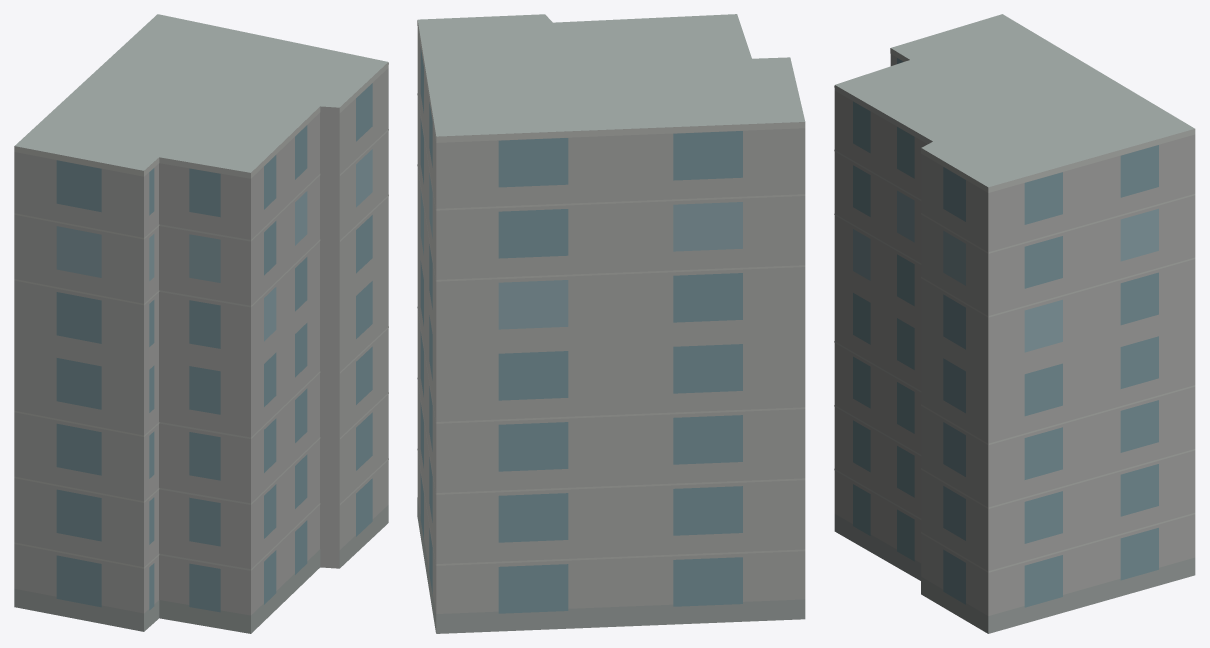
Rendered from survey-upis-32805594.glb.
The picture shows the model from 3 angles, left to right: view 1: azimuth 30°, elevation 25°; view 2: azimuth 150°, elevation 25°; view 3: azimuth 270°, elevation 25°; orthographic projection. The views are drawn at different scales.
Parts seen in each view (by area): view 1: survey-upis-32805594.tmp; view 2: survey-upis-32805594.tmp; view 3: survey-upis-32805594.tmp.
Boxes of the visible parts, x1,y1,x2,y2 form: survey-upis-32805594.tmp: (14, 14, 388, 633); survey-upis-32805594.tmp: (417, 14, 805, 633); survey-upis-32805594.tmp: (834, 14, 1195, 633).
Size of the model in its own units: 15.92 by 19.1 by 14.
